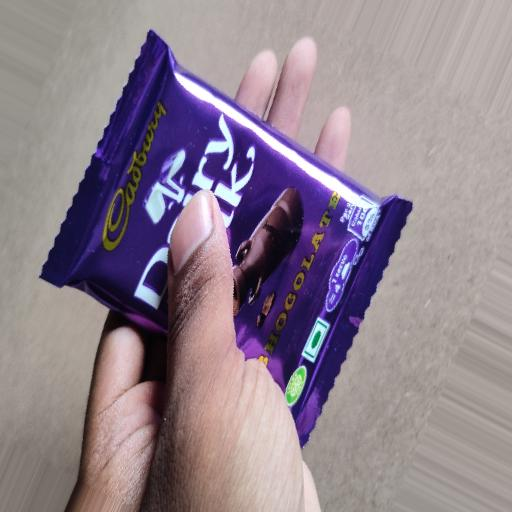Cadbury Dairy Milk Chocolate: (9, 25, 429, 468)
